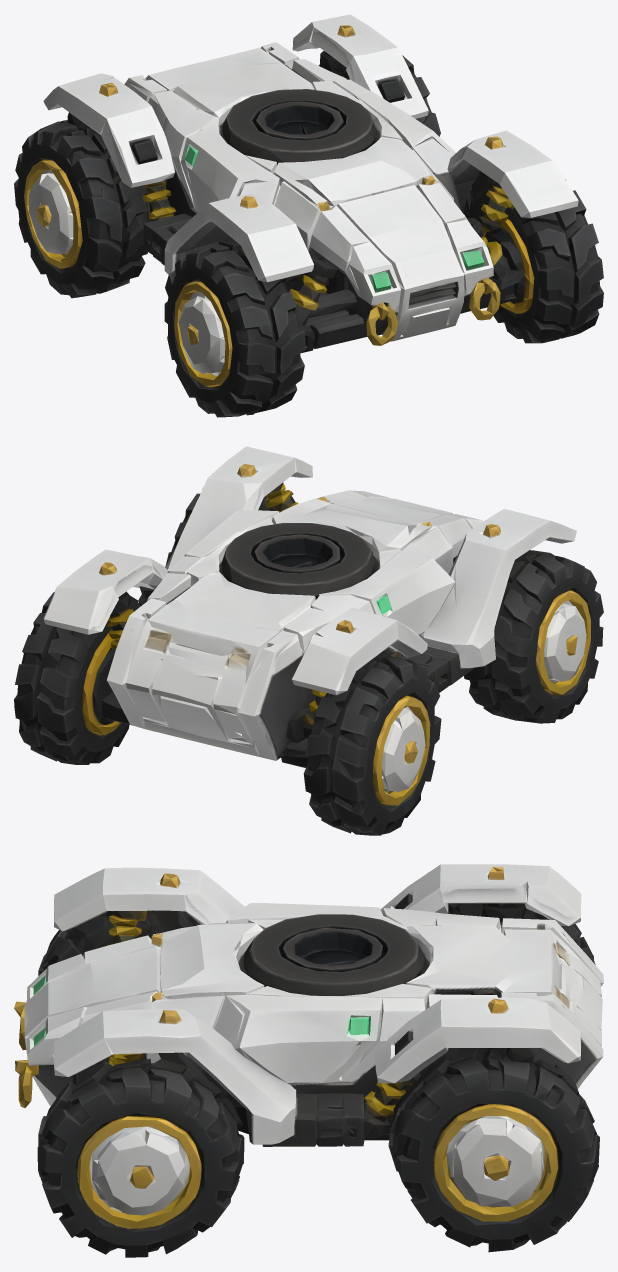
File: scout_wheels.glb
3 renders of one model, top to bottom at view 1: azimuth 30°, elevation 25°; view 2: azimuth 150°, elevation 25°; view 3: azimuth 270°, elevation 25°, orthographic. The views are drawn at different scales.
Parts seen in each view (by area): view 1: model; view 2: model; view 3: model.
Part boxes in pixels (x1=…): model: x1=14, y1=14, x2=603, y2=417; model: x1=14, y1=446, x2=603, y2=835; model: x1=14, y1=864, x2=603, y2=1257.
Size of the model in its own units: 1.64 by 0.8106 by 1.9.
1 material, 1 textured.
